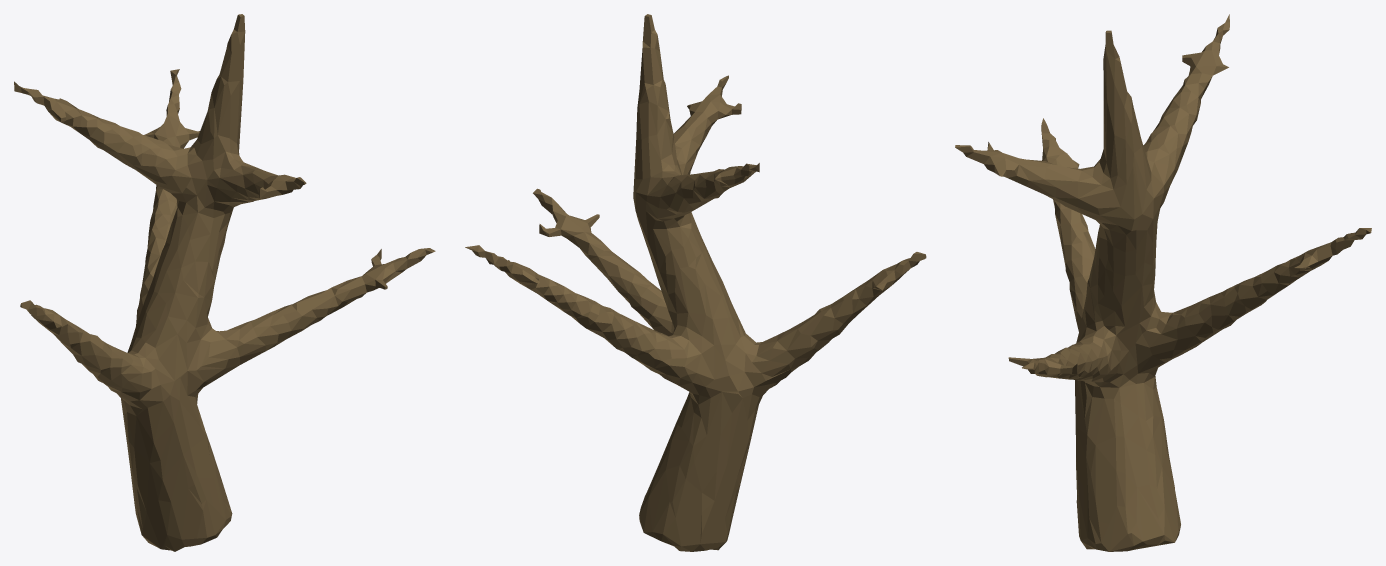
The model's file is DRY_BRANCH_SHRUB.hi.glb.
The picture shows the model from 3 angles, left to right: view 1: azimuth 30°, elevation 25°; view 2: azimuth 150°, elevation 25°; view 3: azimuth 270°, elevation 25°; orthographic projection. The views are drawn at different scales.
Visible parts, largest first — view 1: DRY_BRANCH_SHRUB; view 2: DRY_BRANCH_SHRUB; view 3: DRY_BRANCH_SHRUB.
Part boxes in pixels (x1,y1,x2,y2): DRY_BRANCH_SHRUB: [14, 14, 435, 551]; DRY_BRANCH_SHRUB: [465, 14, 926, 551]; DRY_BRANCH_SHRUB: [955, 14, 1371, 551].
Bounding box in the file's own units: 0.4084 × 0.497 × 0.3445.
Materials: 1 (1 with a texture image).
